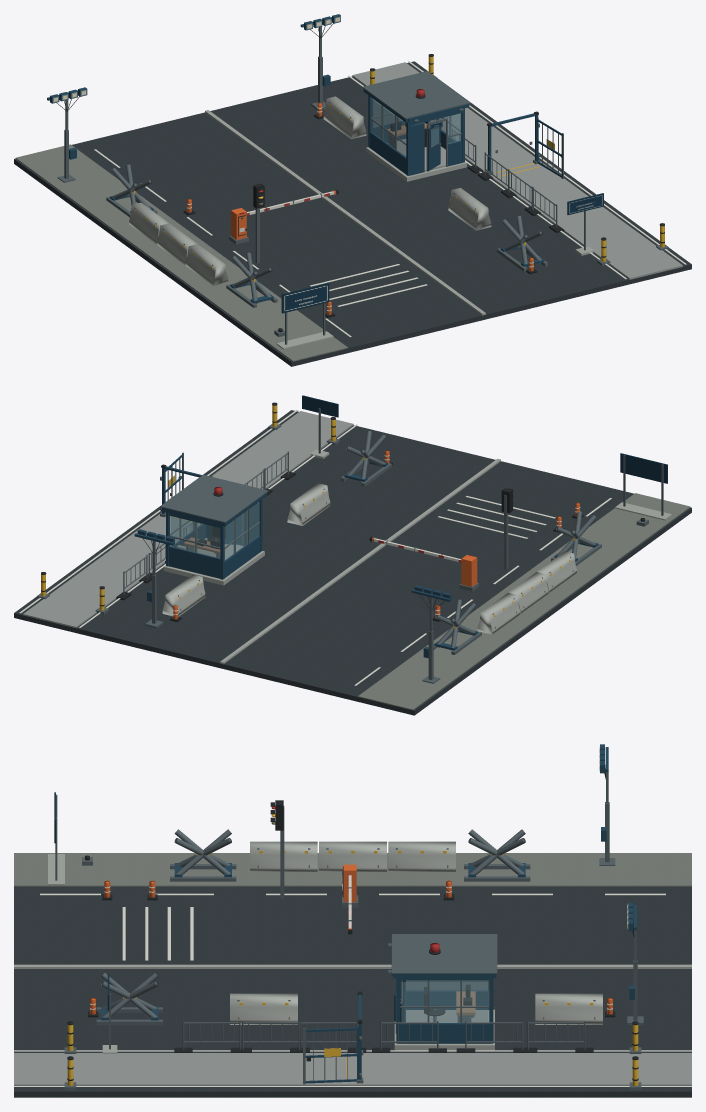
3 renders of one model, top to bottom at view 1: azimuth 30°, elevation 25°; view 2: azimuth 150°, elevation 25°; view 3: azimuth 270°, elevation 25°, orthographic. The views are drawn at different scales.
Parts seen in each view (by area): view 1: VIS_0000_floor_asphalt_full_deck, VIS_0002_floor_western_road_shoulder, VIS_0001_floor_eastern_footway, VIS_0027_checkpoint_booth_roof_silver_cap, VIS_0003_floor_median_raised_strip, VIS_0034_checkpoint_booth_left_right_glass_-1.36, VIS_0138_jersey_3_cast_reinforced_Jersey_body, VIS_0149_jersey_4_cast_reinforced_Jersey_body, VIS_0127_jersey_2_cast_reinforced_Jersey_body, VIS_0116_jersey_1_cast_reinforced_Jersey_body, VIS_0105_jersey_0_cast_reinforced_Jersey_body, VIS_0296_queue_sign_evac_board_printed_face (+3 smaller); view 2: VIS_0000_floor_asphalt_full_deck, VIS_0002_floor_western_road_shoulder, VIS_0001_floor_eastern_footway, VIS_0027_checkpoint_booth_roof_silver_cap, VIS_0003_floor_median_raised_strip, VIS_0046_checkpoint_booth_rear_window, VIS_0138_jersey_3_cast_reinforced_Jersey_body, VIS_0034_checkpoint_booth_left_right_glass_-1.36, VIS_0116_jersey_1_cast_reinforced_Jersey_body, VIS_0149_jersey_4_cast_reinforced_Jersey_body, VIS_0044_checkpoint_booth_rear_sill, VIS_0295_queue_sign_evac_board_board (+7 smaller); view 3: VIS_0000_floor_asphalt_full_deck, VIS_0001_floor_eastern_footway, VIS_0002_floor_western_road_shoulder, VIS_0027_checkpoint_booth_roof_silver_cap, VIS_0040_checkpoint_booth_left_right_glass_1.36, VIS_0003_floor_median_raised_strip, VIS_0149_jersey_4_cast_reinforced_Jersey_body, VIS_0116_jersey_1_cast_reinforced_Jersey_body, VIS_0138_jersey_3_cast_reinforced_Jersey_body, VIS_0105_jersey_0_cast_reinforced_Jersey_body, VIS_0127_jersey_2_cast_reinforced_Jersey_body, VIS_0038_checkpoint_booth_left_right_base_1.36 (+6 smaller).
Part boxes in pixels (x1,y1,x2,y2): VIS_0000_floor_asphalt_full_deck: (14, 61, 691, 366); VIS_0002_floor_western_road_shoulder: (15, 144, 347, 361); VIS_0001_floor_eastern_footway: (352, 62, 682, 279); VIS_0027_checkpoint_booth_roof_silver_cap: (362, 71, 470, 119); VIS_0003_floor_median_raised_strip: (205, 110, 485, 315); VIS_0034_checkpoint_booth_left_right_glass_-1.36: (371, 98, 406, 156); VIS_0138_jersey_3_cast_reinforced_Jersey_body: (448, 188, 491, 230); VIS_0149_jersey_4_cast_reinforced_Jersey_body: (323, 96, 366, 139); VIS_0127_jersey_2_cast_reinforced_Jersey_body: (185, 244, 228, 285); VIS_0116_jersey_1_cast_reinforced_Jersey_body: (129, 202, 168, 244); VIS_0105_jersey_0_cast_reinforced_Jersey_body: (157, 223, 197, 265); VIS_0296_queue_sign_evac_board_printed_face: (283, 285, 328, 311); VIS_0000_floor_asphalt_full_deck: (14, 410, 691, 715); VIS_0002_floor_western_road_shoulder: (358, 493, 690, 710); VIS_0001_floor_eastern_footway: (23, 411, 353, 628); VIS_0027_checkpoint_booth_roof_silver_cap: (160, 475, 268, 522); VIS_0003_floor_median_raised_strip: (220, 458, 500, 664); VIS_0046_checkpoint_booth_rear_window: (170, 516, 220, 558); VIS_0138_jersey_3_cast_reinforced_Jersey_body: (287, 483, 330, 525); VIS_0034_checkpoint_booth_left_right_glass_-1.36: (224, 502, 259, 560); VIS_0116_jersey_1_cast_reinforced_Jersey_body: (477, 592, 520, 634); VIS_0149_jersey_4_cast_reinforced_Jersey_body: (162, 574, 205, 616); VIS_0044_checkpoint_booth_rear_sill: (169, 546, 220, 578); VIS_0295_queue_sign_evac_board_board: (620, 453, 667, 483); VIS_0000_floor_asphalt_full_deck: (14, 886, 691, 1097); VIS_0001_floor_eastern_footway: (14, 1053, 691, 1085); VIS_0002_floor_western_road_shoulder: (14, 853, 691, 886); VIS_0027_checkpoint_booth_roof_silver_cap: (392, 934, 497, 973); VIS_0040_checkpoint_booth_left_right_glass_1.36: (401, 982, 488, 1022); VIS_0003_floor_median_raised_strip: (14, 964, 691, 968); VIS_0149_jersey_4_cast_reinforced_Jersey_body: (535, 993, 602, 1024); VIS_0116_jersey_1_cast_reinforced_Jersey_body: (388, 841, 455, 871); VIS_0138_jersey_3_cast_reinforced_Jersey_body: (230, 993, 297, 1024); VIS_0105_jersey_0_cast_reinforced_Jersey_body: (319, 841, 386, 871); VIS_0127_jersey_2_cast_reinforced_Jersey_body: (250, 841, 317, 871); VIS_0038_checkpoint_booth_left_right_base_1.36: (400, 1023, 489, 1043).
Size of the model in its own units: 20.05 by 4.49 by 24.
Materials: 20 (20 with a texture image).
